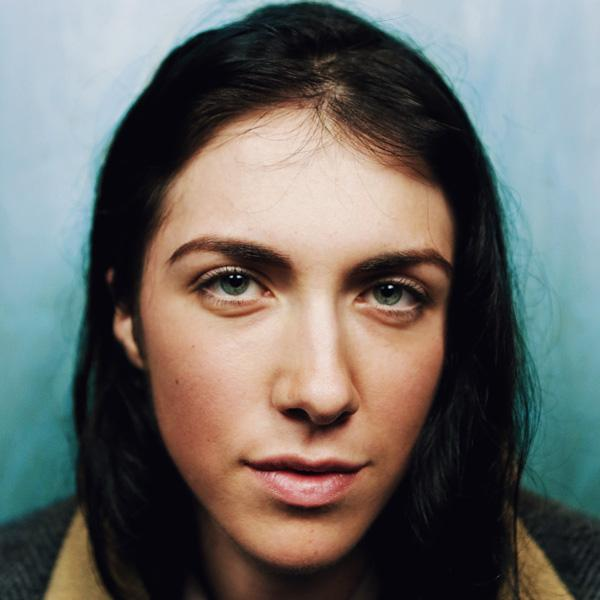Eyes: (181, 255, 280, 320), (343, 265, 434, 324)
